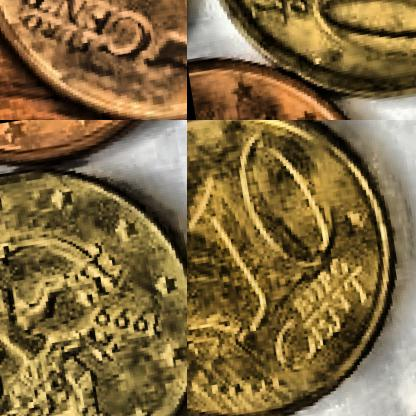coin: (187, 120, 415, 415), (0, 140, 186, 415), (187, 0, 415, 119), (0, 0, 186, 119)
